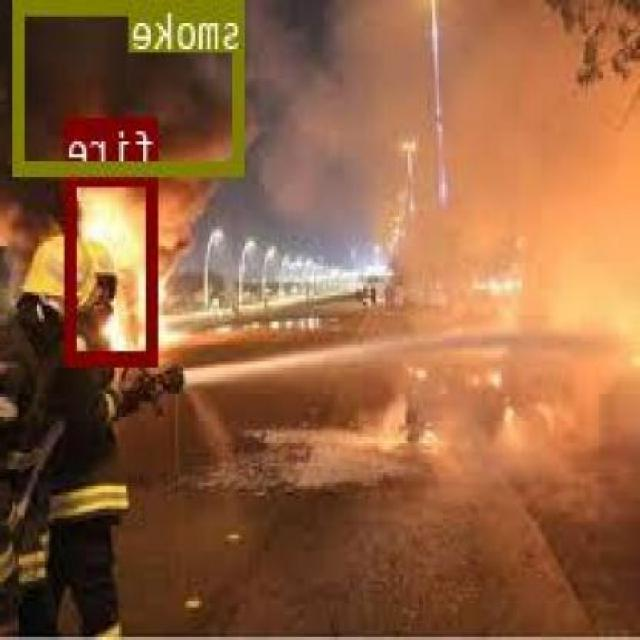Fire: (68, 170, 160, 362)
Smoke: (15, 0, 246, 171)
